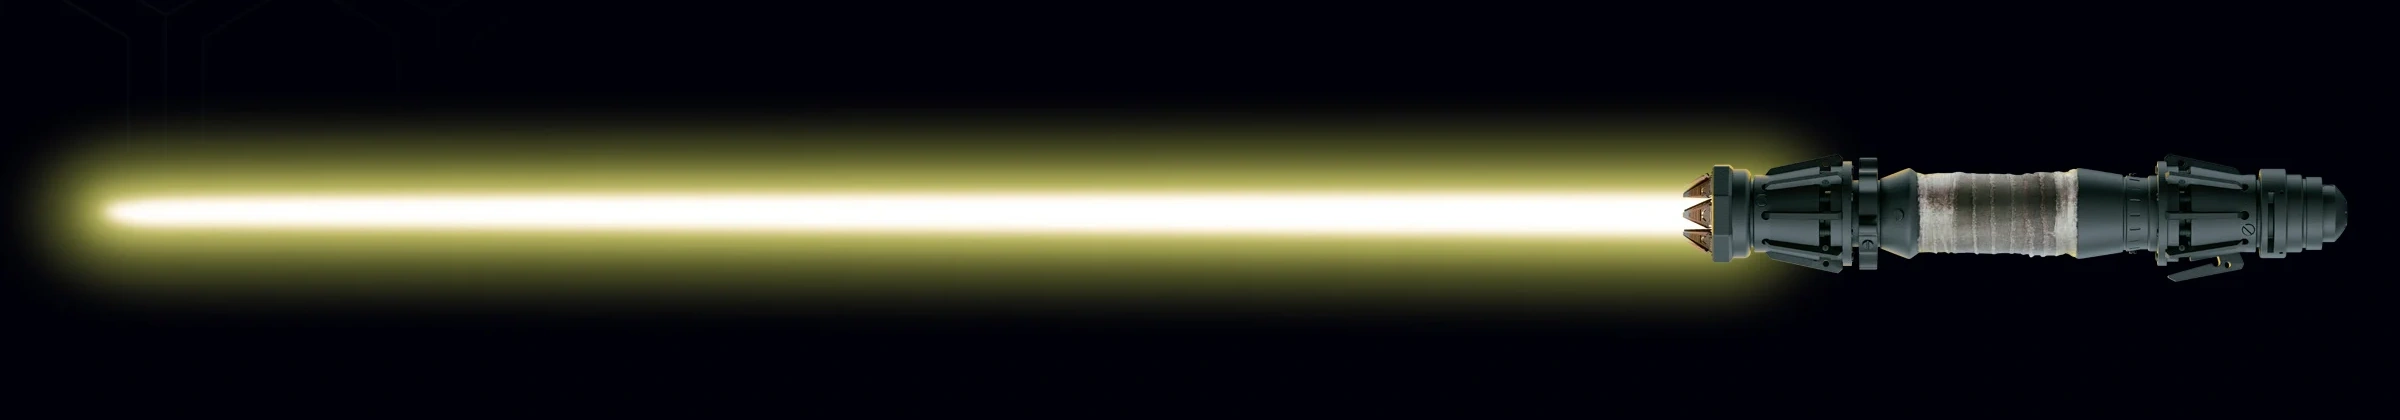Dalek: (66, 138, 2349, 290)
